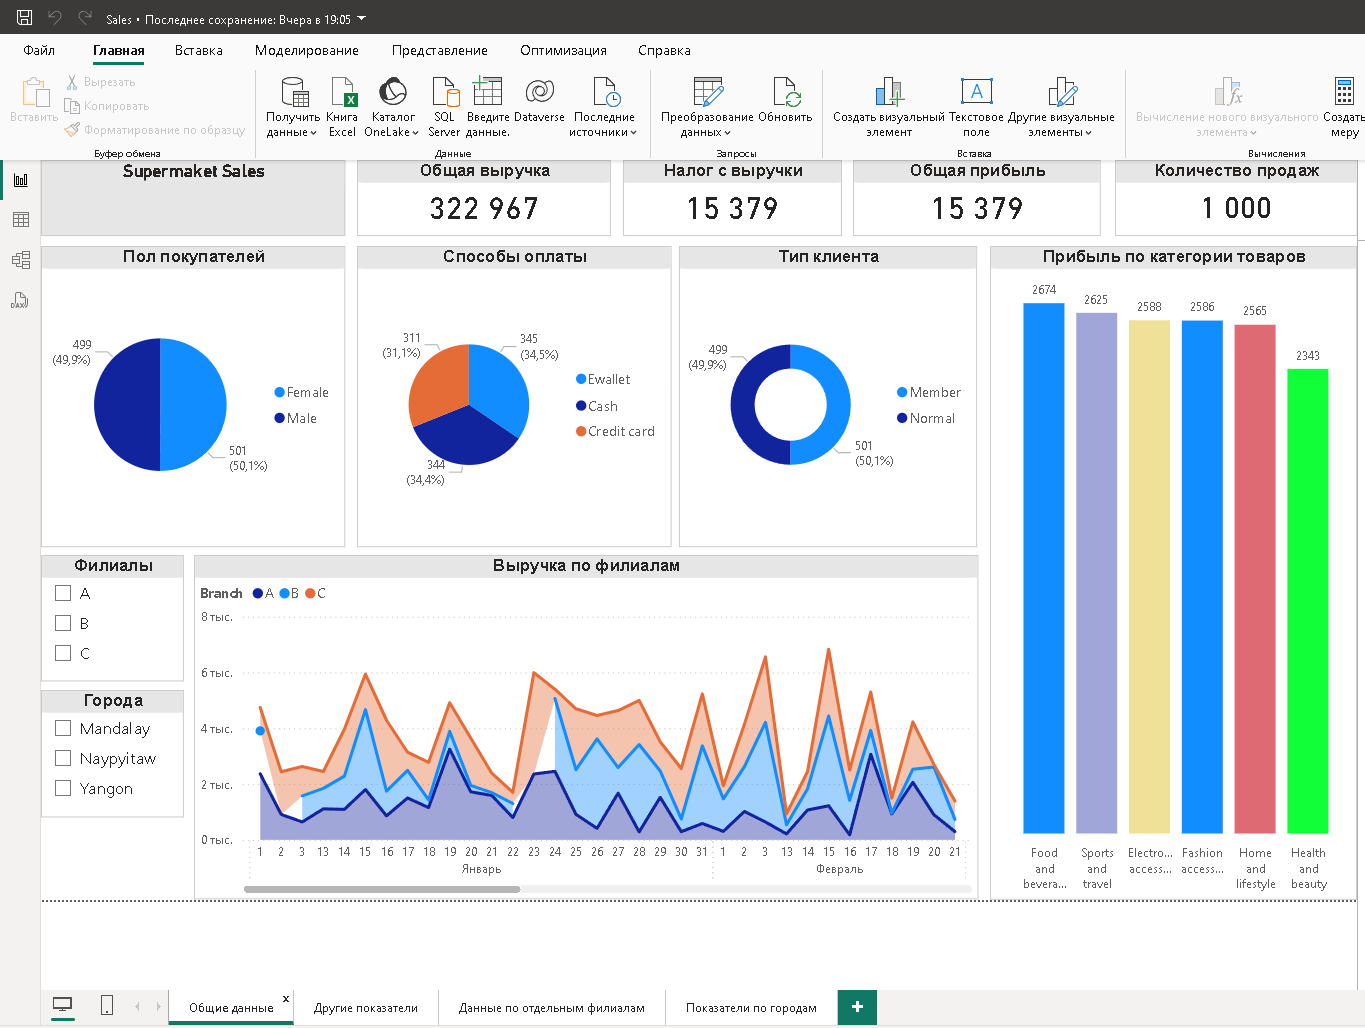

This screenshot's page, from the dashboard's own definition file:
{"tool":"powerbi","page":{"name":"Общие данные","canvas":[1280,720],"ordinal":0},"visuals":[{"type":"textbox","title":"Supermaket Sales","box":[0,0,296.2,73.8],"z":0},{"type":"card","title":"Общая выручка","fields":{"Values":["Sum(Sheet1.Total)"]},"box":[306.9,0,247.4,73.8],"z":1},{"type":"card","title":"Налог с выручки","fields":{"Values":["Sum(Sheet1.Tax 5%)"]},"box":[566.2,0,212.9,73.8],"z":2},{"type":"card","title":"Общая прибыль","fields":{"Values":["Sum(Sheet1.gross income)"]},"box":[789.9,0,241.5,73.8],"z":3},{"type":"card","title":"Количество продаж","fields":{"Values":["CountNonNull(Sheet1.Quantity)"]},"box":[1044.5,0,235.5,73.8],"z":4},{"type":"pieChart","title":"Пол покупателей","fields":{"Category":["Sheet1.Gender"],"Y":["CountNonNull(Sheet1.Gender)"]},"box":[0,83.3,296.2,292.6],"z":5},{"type":"pieChart","title":"Способы оплаты","fields":{"Category":["Sheet1.Payment"],"Y":["CountNonNull(Sheet1.Payment)"]},"box":[306.9,83.3,305.7,292.6],"z":6},{"type":"donutChart","title":"Тип клиента","fields":{"Category":["Sheet1.Customer type"],"Y":["CountNonNull(Sheet1.Customer type)"]},"box":[621,83.3,290.3,292.6],"z":7},{"type":"clusteredColumnChart","title":"Прибыль по категории товаров","fields":{"Category":["Sheet1.Product line"],"Y":["Sum(Sheet1.gross income)"]},"box":[923.1,83.3,356.9,636.4],"z":8},{"type":"slicer","title":"Филиалы","fields":{"Values":["Sheet1.Branch"]},"box":[0,384.2,139.2,122.5],"z":9},{"type":"slicer","title":"Города","fields":{"Values":["Sheet1.City"]},"box":[0,515.1,139.2,123.7],"z":10},{"type":"stackedAreaChart","title":"Выручка по филиалам","fields":{"Y":["Sum(Sheet1.Total)"],"Series":["Sheet1.Branch"],"Category":["Sheet1.Date.Изменение.Иерархия дат.Месяц","Sheet1.Date.Изменение.Иерархия дат.День"]},"box":[148.7,384.2,762.5,335.5],"z":11}]}

Visuals, with their boxes on the page's 1280x720 design canvas (x1, y1, x2, y2). These are canvas units, not pixel positions in the 1365x1028 screenshot, which may show the page scaled, cropped or inside an application window:
"Supermaket Sales" textbox: locate(0, 0, 296, 74)
"Общая выручка" card: locate(307, 0, 554, 74)
"Налог с выручки" card: locate(566, 0, 779, 74)
"Общая прибыль" card: locate(790, 0, 1031, 74)
"Количество продаж" card: locate(1044, 0, 1280, 74)
"Пол покупателей" pieChart: locate(0, 83, 296, 376)
"Способы оплаты" pieChart: locate(307, 83, 613, 376)
"Тип клиента" donutChart: locate(621, 83, 911, 376)
"Прибыль по категории товаров" clusteredColumnChart: locate(923, 83, 1280, 720)
"Филиалы" slicer: locate(0, 384, 139, 507)
"Города" slicer: locate(0, 515, 139, 639)
"Выручка по филиалам" stackedAreaChart: locate(149, 384, 911, 720)
